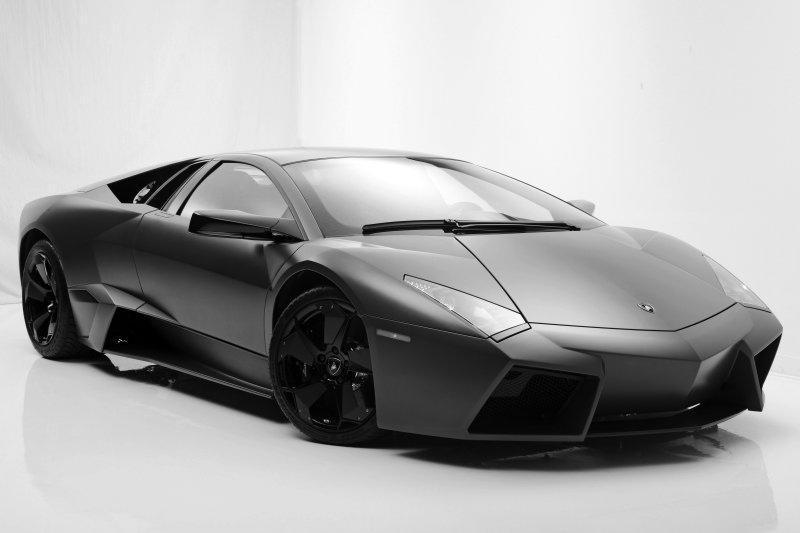car: (18, 152, 783, 455)
